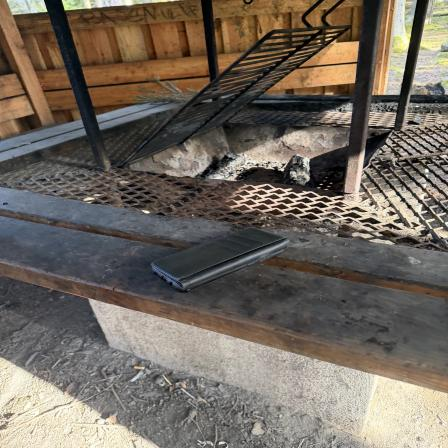phone: (151, 225, 293, 289)
